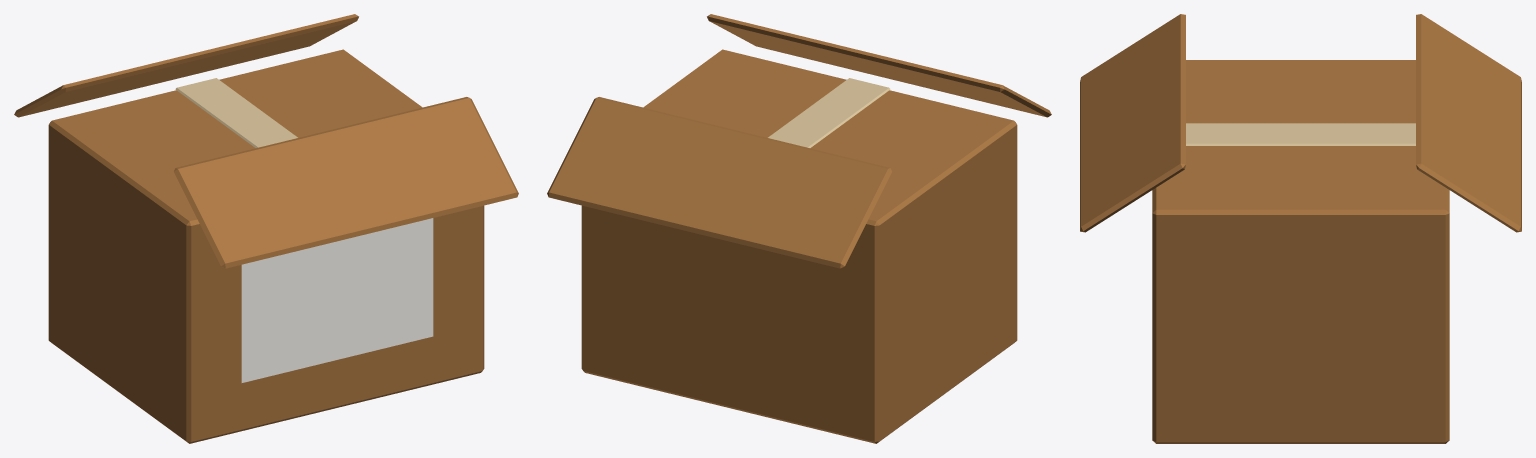
File: overflow.glb
The picture shows the model from 3 angles, left to right: view 1: azimuth 30°, elevation 25°; view 2: azimuth 150°, elevation 25°; view 3: azimuth 270°, elevation 25°; orthographic projection. The views are drawn at different scales.
Parts seen in each view (by area): view 1: overflow.carton, overflow.label, overflow.tape; view 2: overflow.carton, overflow.tape; view 3: overflow.carton, overflow.tape.
Boxes of the visible parts, x1,y1,x2,y2 form: overflow.carton: (14,14,518,443); overflow.label: (241,218,433,382); overflow.tape: (175,78,297,147); overflow.carton: (547,14,1051,443); overflow.tape: (768,78,890,147); overflow.carton: (1080,14,1521,443); overflow.tape: (1186,123,1415,145).
Size of the model in its own units: 0.56 by 0.4788 by 0.6838.
